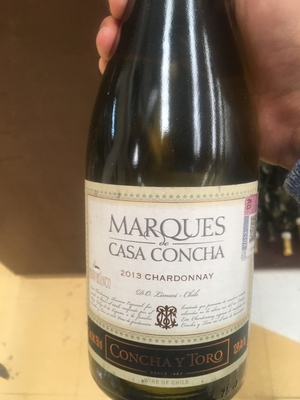marques de casa concha chardonnay: (71, 16, 278, 400)
